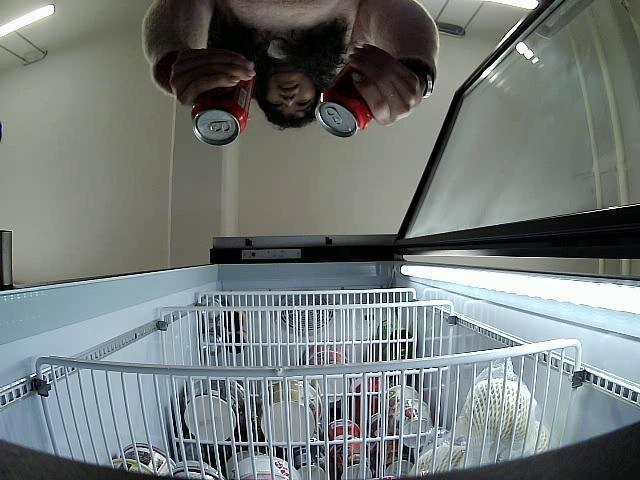11_cocaColaZero: (188, 78, 252, 147), (312, 65, 373, 136)
